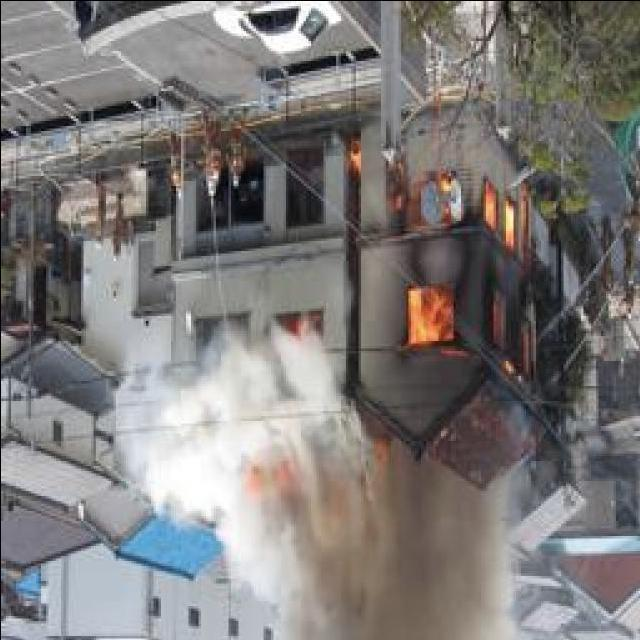Fire: (338, 123, 549, 401)
